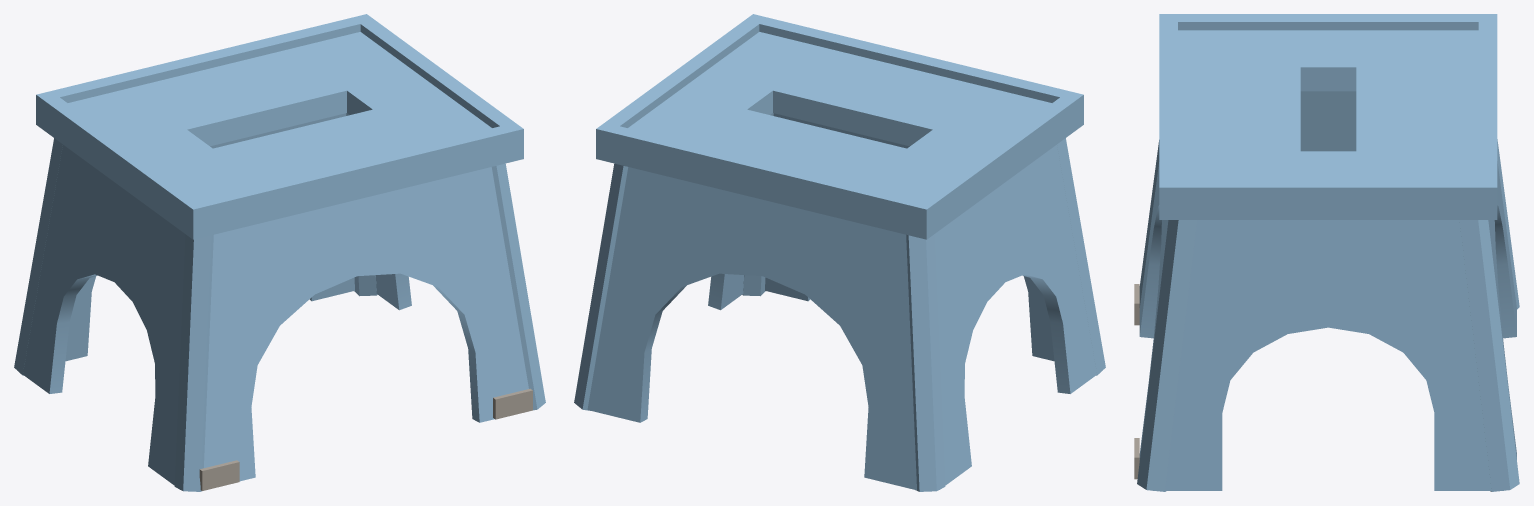
Rendered from SC_Home_Bath_Stool_Blue.gltf.
3 views of the same model, side by side, from view 1: azimuth 30°, elevation 25°; view 2: azimuth 150°, elevation 25°; view 3: azimuth 270°, elevation 25° (orthographic). The views are drawn at different scales.
Parts seen in each view (by area): view 1: SC_Home_Bath_Stool_Blue; view 2: SC_Home_Bath_Stool_Blue; view 3: SC_Home_Bath_Stool_Blue.
Part boxes in pixels (x1,y1,x2,y2): SC_Home_Bath_Stool_Blue: (14,14,545,491); SC_Home_Bath_Stool_Blue: (574,14,1105,491); SC_Home_Bath_Stool_Blue: (1134,14,1519,491).
Size of the model in its own units: 0.3401 by 0.2491 by 0.2909.
Materials: 1 (1 with a texture image).
